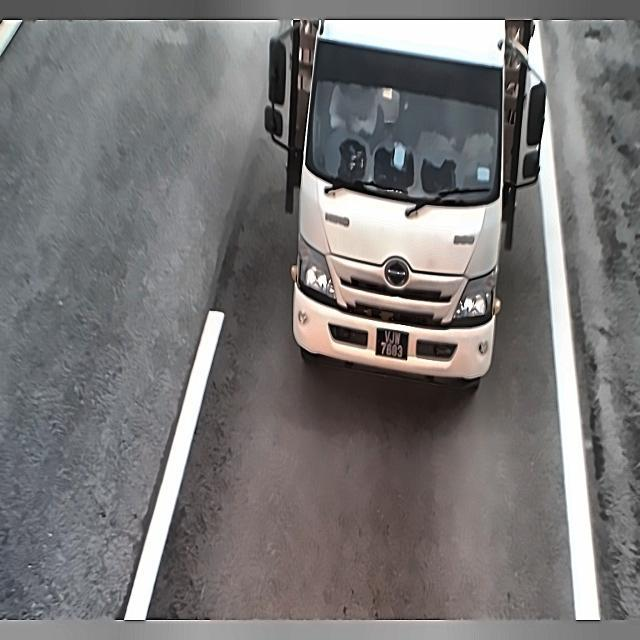car: (370, 325, 412, 369)
